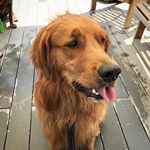puppy: (25, 8, 127, 150)
